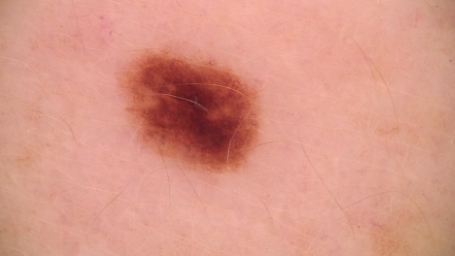nevus: (127, 56, 255, 167)
